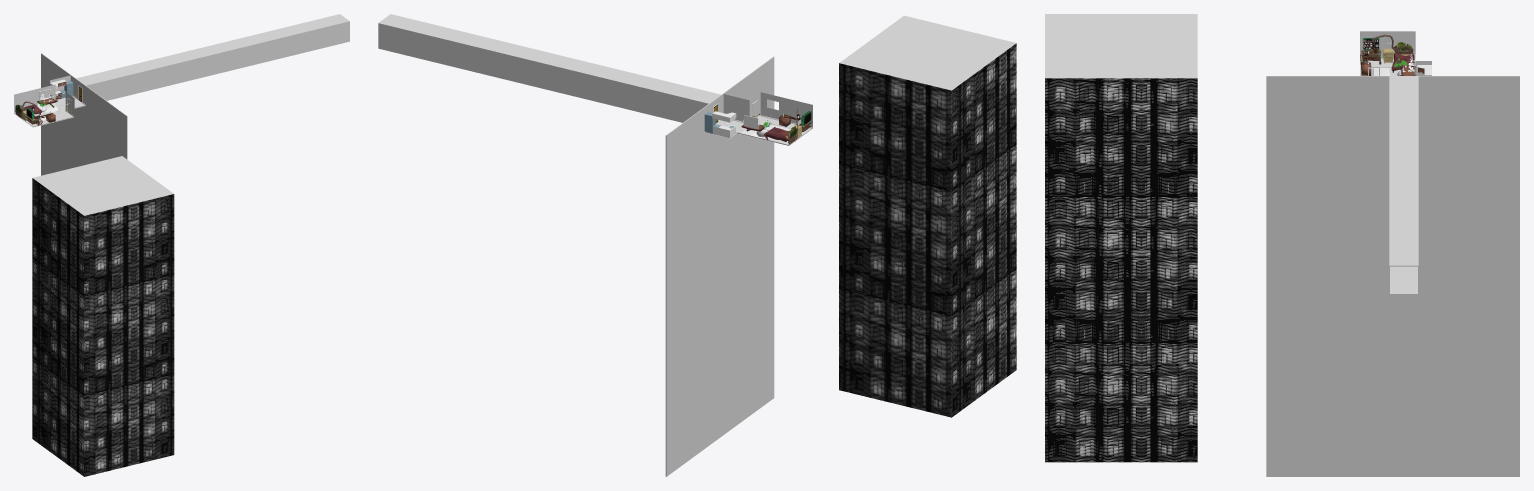
The model's file is AP_assets.glb.
3 views of the same model, side by side, from view 1: azimuth 30°, elevation 25°; view 2: azimuth 150°, elevation 25°; view 3: azimuth 270°, elevation 25° (orthographic). The views are drawn at different scales.
Visible parts, largest first — view 1: Cube.001, front_wall, structure; view 2: Cube.001, front_wall, structure; view 3: front_wall, Cube.001, structure.
Part boxes in pixels (box(x1,y1,x2,y2)): Cube.001: box(32, 156, 174, 476); front_wall: box(41, 14, 349, 175); structure: box(14, 75, 84, 127); Cube.001: box(839, 15, 1016, 417); front_wall: box(378, 14, 774, 476); structure: box(704, 92, 812, 145); front_wall: box(1266, 76, 1519, 476); Cube.001: box(1045, 14, 1197, 462); structure: box(1360, 31, 1431, 75).
Bounding box in the file's own units: 67.97 × 46.94 × 49.68.
17 materials, 8 textured.
